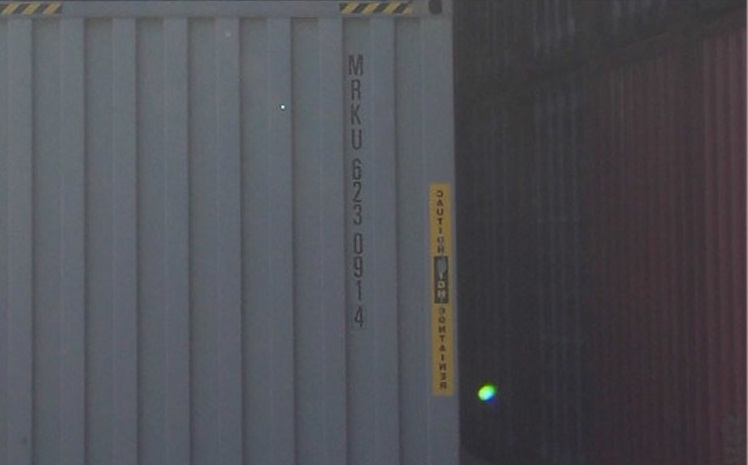container_no_door: (1, 2, 463, 464)
